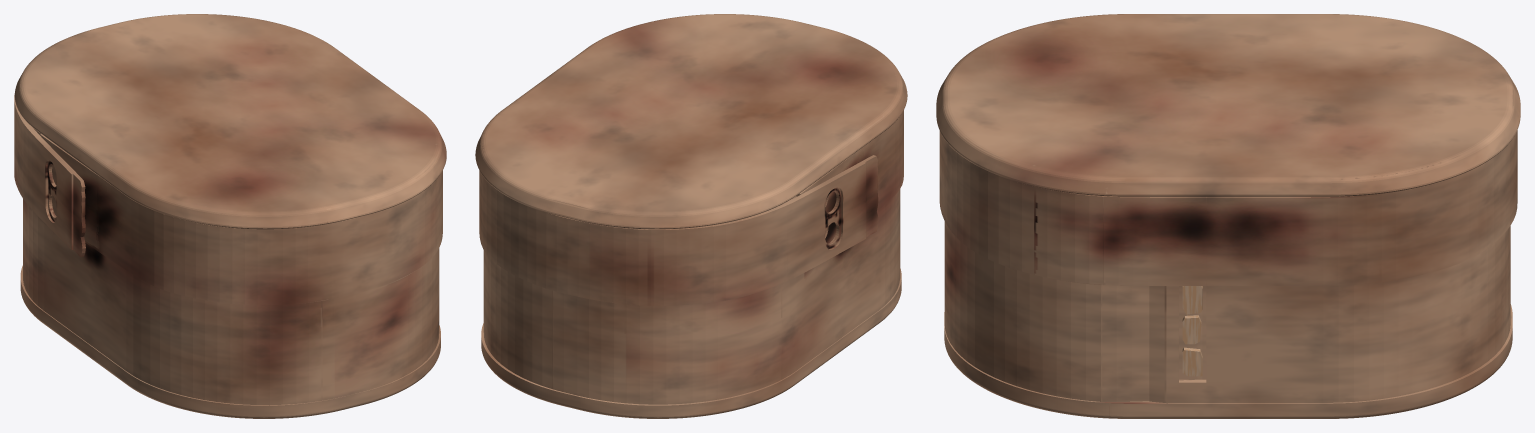
File: voikippo.fbx
3 renders of one model, left to right at view 1: azimuth 30°, elevation 25°; view 2: azimuth 150°, elevation 25°; view 3: azimuth 270°, elevation 25°, orthographic. The views are drawn at different scales.
Visible parts, largest first — view 1: Cube; view 2: Cube; view 3: Cube.
Part boxes in pixels (bbox=[...]): Cube: bbox=[14, 14, 446, 418]; Cube: bbox=[475, 14, 907, 418]; Cube: bbox=[936, 14, 1520, 418].
Size of the model in its own units: 295 by 184 by 403.
2 materials, 2 textured.
